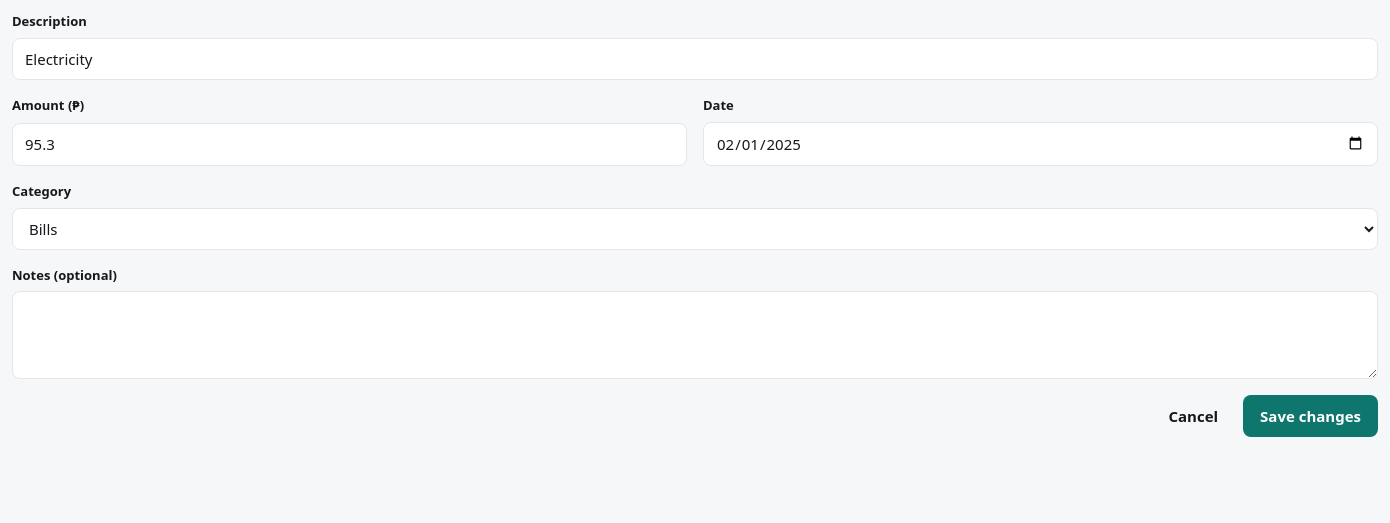
Test: ExpenseForm › pre-fills values when editing and surfaces server errors
expect the field labelled "Description" holds "Electricity": met, box [12,38,1378,80]
expect the number field labelled "Amount (₱)" holds "95.3": met, box [12,122,687,166]
Click the button "Save changes" at (1311, 416), box [1243,394,1378,437]
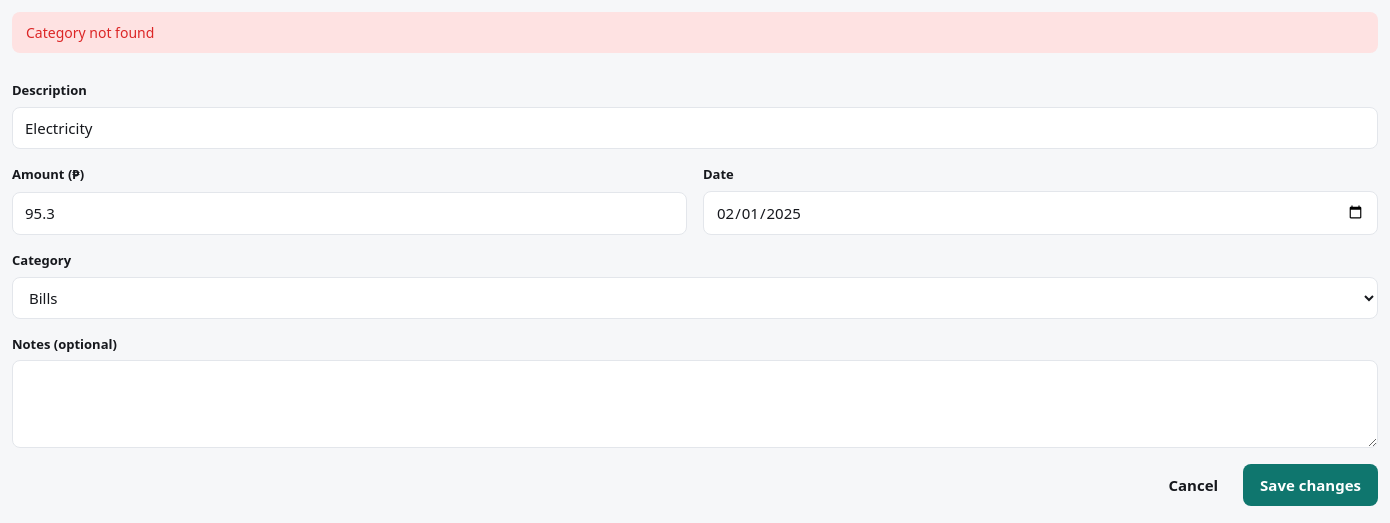
expect the text "Category not found" is shown: met, box [12,12,1378,53]
